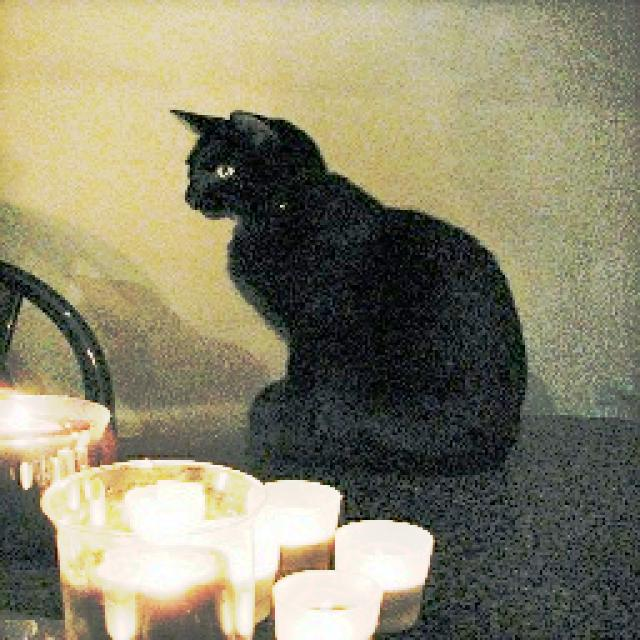cat: (166, 96, 527, 478)
